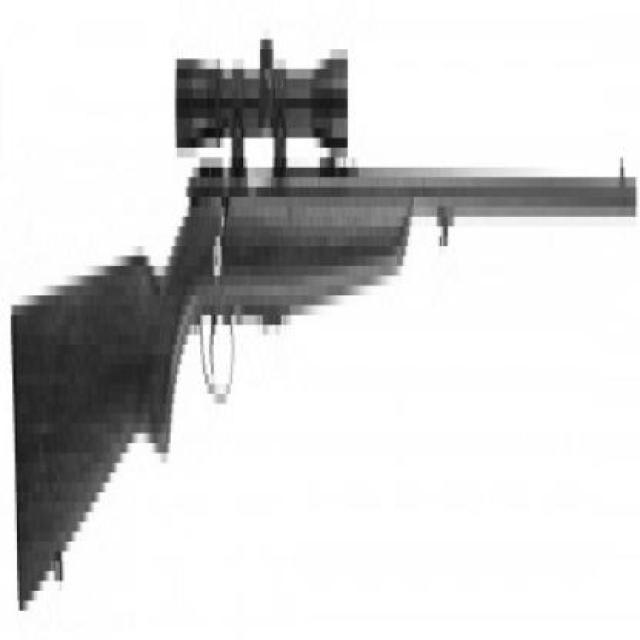weapon: (8, 38, 637, 610)
